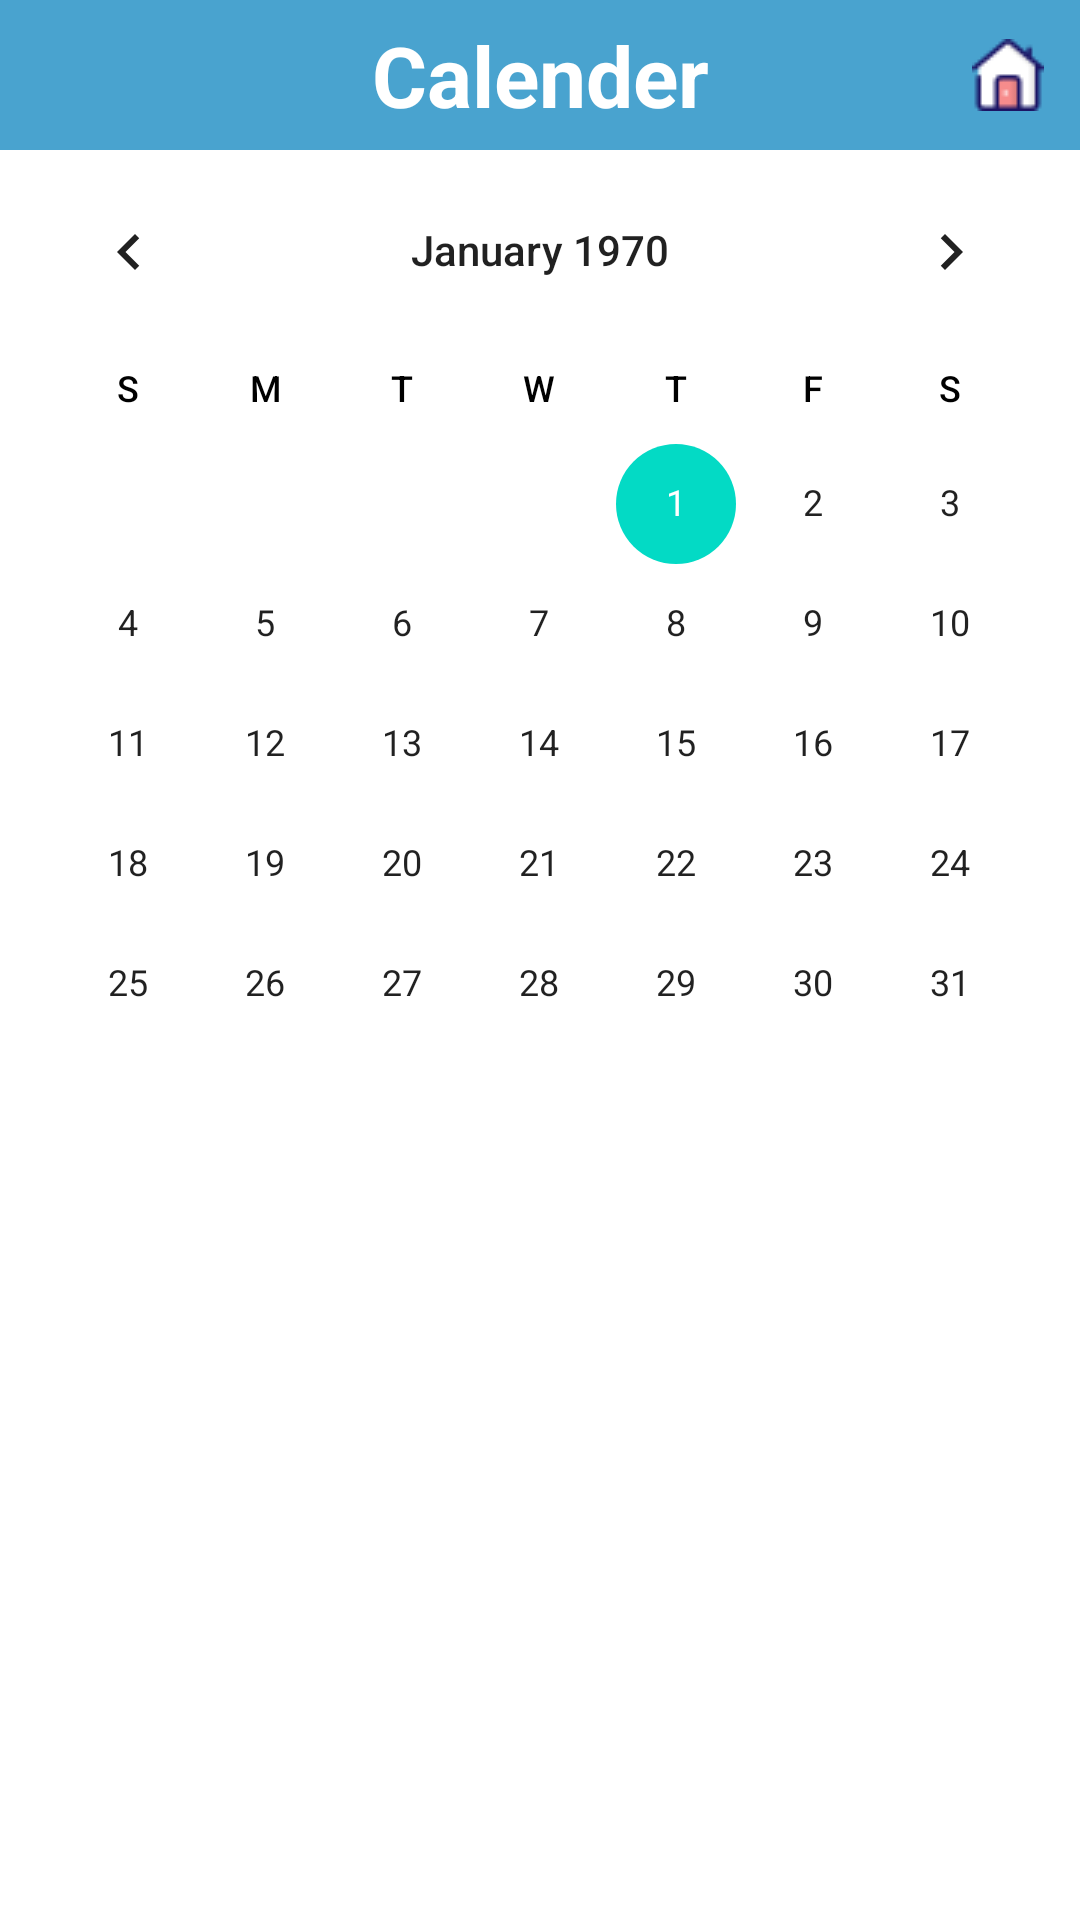

Icons on this 1080*1920 Android screen, each with its box as {"x1": x1, "y1": y1, "x2": x2, "y2": y2}:
home: {"x1": 972, "y1": 39, "x2": 1044, "y2": 111}
